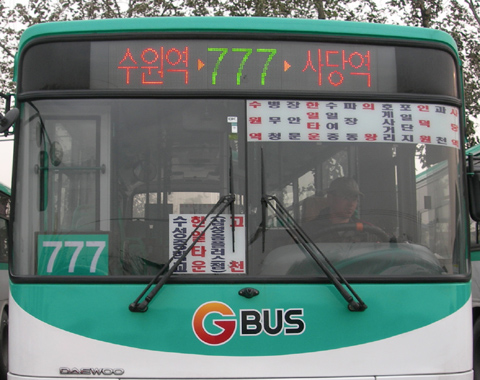bnum: (39, 235, 108, 275)
